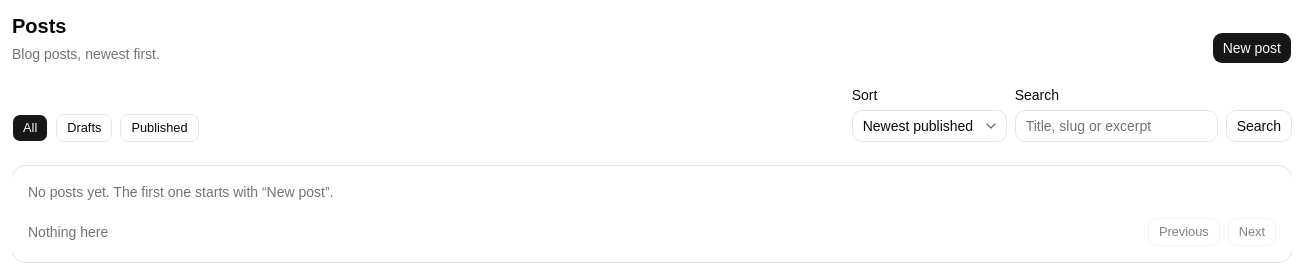
Test: the post list › says nothing matched rather than showing an empty table
Type "nothing" into the search field labelled "Search" at (1116, 126), box [1015,110,1218,142]
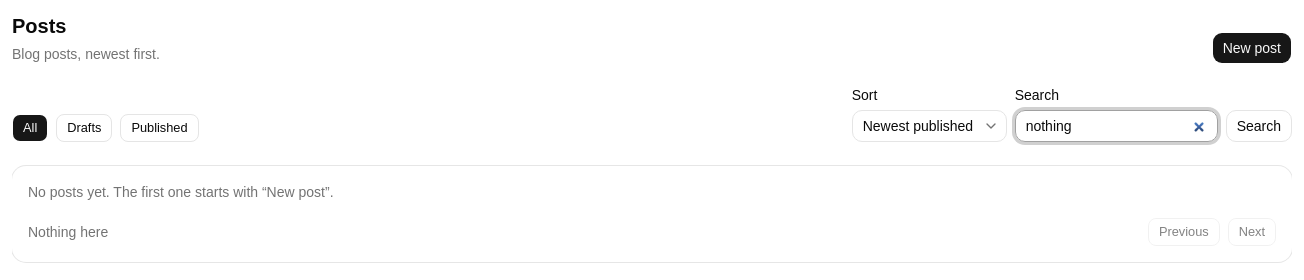
Click the button "Search" at (1259, 126), box [1226,110,1292,142]
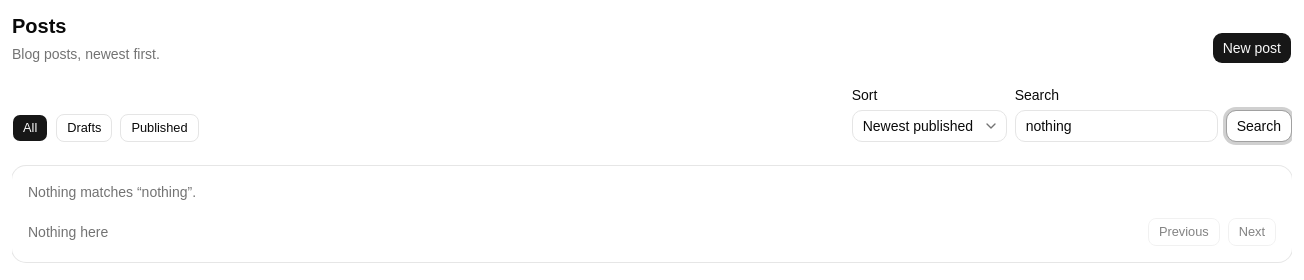
Result: the text "Nothing matches “nothing”." is shown at [28,184,196,200]
